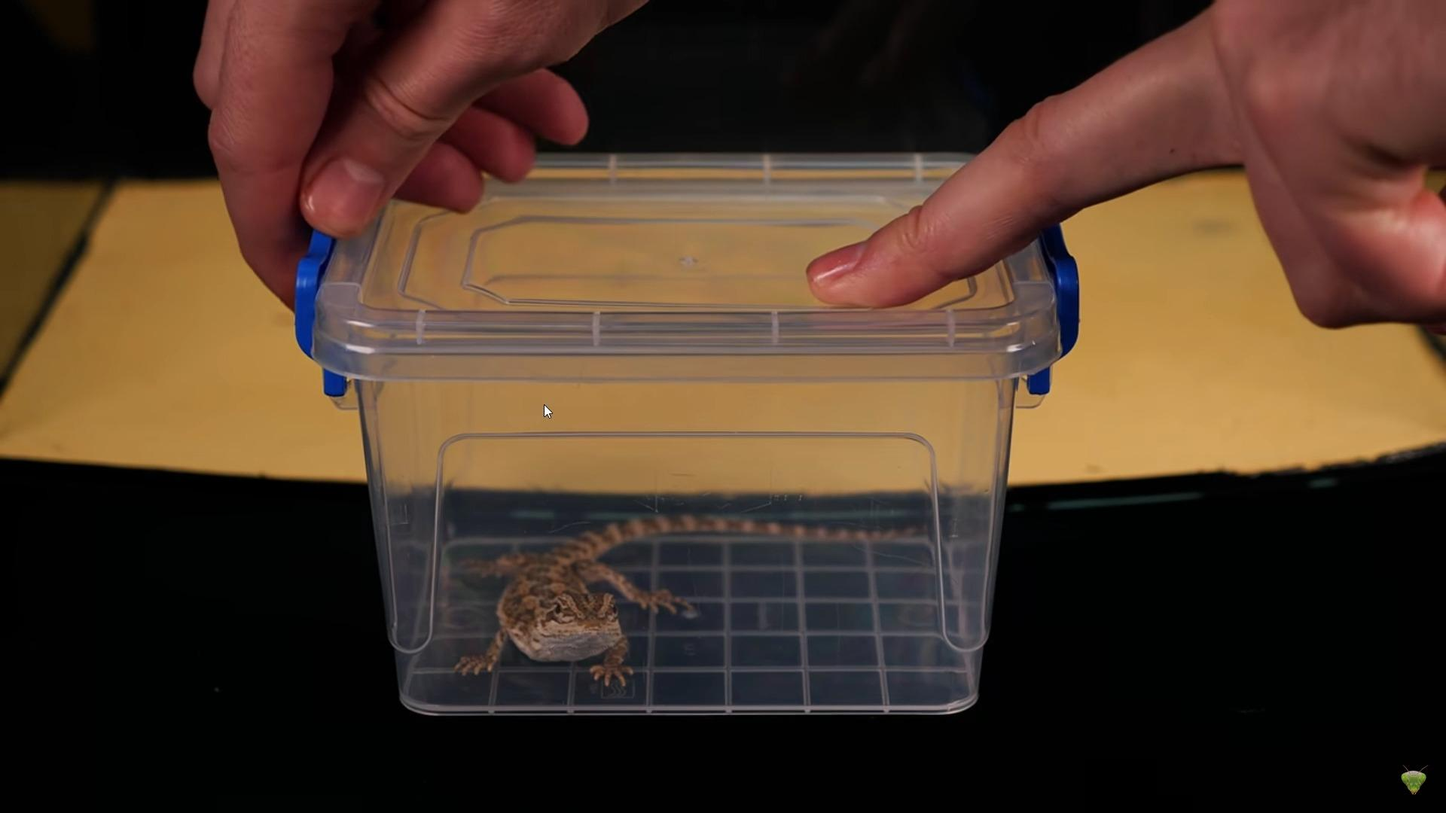lizard: (451, 512, 941, 691)
